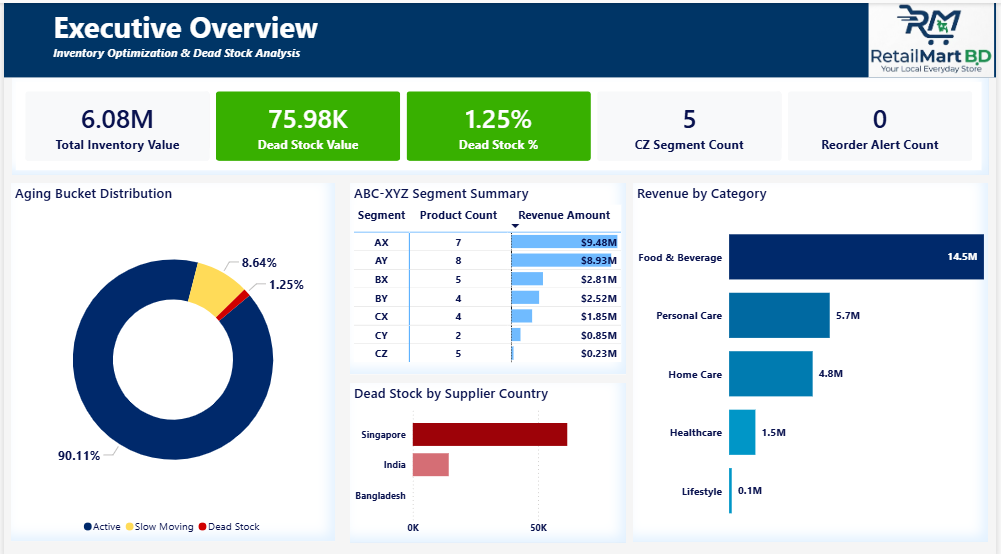

What the dashboard file says about the page in this screenshot:
{"tool":"powerbi","page":{"name":"Executive Overview","canvas":[1280,720],"ordinal":0},"visuals":[{"type":"cardVisual","fields":{"Data":["_Measures.Total Inventory Value","_Measures.Dead Stock Value","_Measures.Dead Stock %","_Measures.CZ Segment Count","_Measures.Reorder Alert Count"]},"box":[9.9,96.4,1260,124.7],"z":0},{"type":"textbox","box":[0,0,1279.8,96.4],"z":1000},{"type":"donutChart","title":"Aging Bucket Distribution","fields":{"Category":["vw_stock_aging.aging_bucket"],"Y":["Sum(vw_stock_aging.tied_up_capital)"]},"box":[8.5,232.4,418.1,462],"z":2000},{"type":"clusteredBarChart","title":"Revenue by Category","fields":{"Category":["dim_product.category"],"Y":["Sum(vw_abc_analysis.total_revenue)"]},"box":[812.1,232.4,457.8,463.5],"z":3000},{"type":"pivotTable","title":"ABC-XYZ Segment Summary","fields":{"Rows":["vw_abc_xyz_matrix.combined_segment"],"Values":["Count(vw_abc_xyz_matrix.product_id)","Sum(vw_abc_xyz_matrix.total_revenue)"]},"box":[446.5,232.4,355.7,246.6],"z":4000},{"type":"barChart","title":"Dead Stock by Supplier Country","fields":{"Y":["Sum(vw_supplier_performance.dead_stock_capital)"],"Category":["vw_supplier_performance.country"]},"box":[446.5,490.4,355.7,205.5],"z":5000},{"type":"image","box":[1114,0,165.8,96.4],"z":6000}]}

Visuals, with their boxes in screenshot pixels (x1, y1, x2, y2), scaled from the page's 1280x720 canvas onto the 1001x554 screenshot:
cardVisual - _Measures.Total Inventory Value x _Measures.Dead Stock Value: left=8, top=74, right=993, bottom=170
textbox: left=0, top=0, right=1000, bottom=74
"Aging Bucket Distribution" donutChart: left=7, top=179, right=334, bottom=534
"Revenue by Category" clusteredBarChart: left=635, top=179, right=993, bottom=535
"ABC-XYZ Segment Summary" pivotTable: left=349, top=179, right=627, bottom=369
"Dead Stock by Supplier Country" barChart: left=349, top=377, right=627, bottom=535
image: left=871, top=0, right=1000, bottom=74
